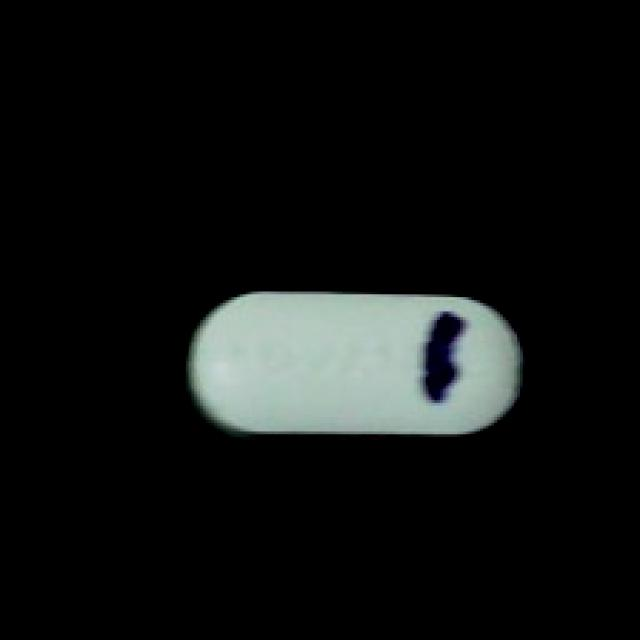defected: (183, 277, 529, 446)
